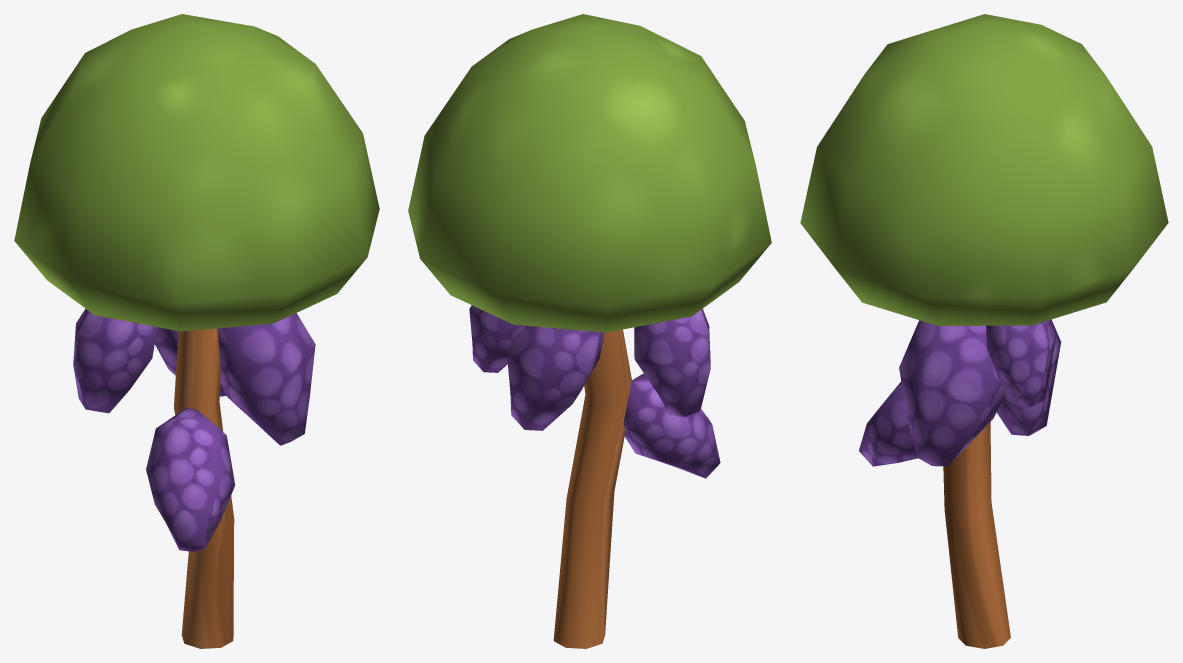
The model's file is Arvore_2.fbx.
3 views of the same model, side by side, from view 1: azimuth 30°, elevation 25°; view 2: azimuth 150°, elevation 25°; view 3: azimuth 270°, elevation 25° (orthographic).
Parts seen in each view (by area): view 1: Arvore_2_Uva; view 2: Arvore_2_Uva; view 3: Arvore_2_Uva.
Boxes of the visible parts, <box> form: Arvore_2_Uva: <box>14,14,379,648</box>; Arvore_2_Uva: <box>408,14,771,648</box>; Arvore_2_Uva: <box>800,14,1168,648</box>.
Size of the model in its own units: 68.45 by 131 by 71.97.
